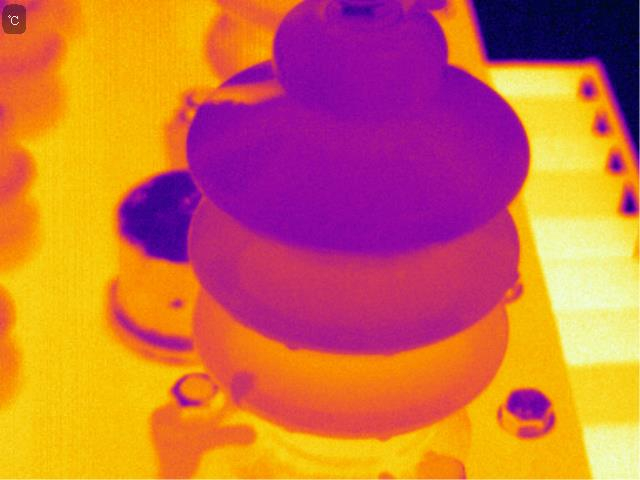Oil: (201, 69, 290, 112), (227, 367, 263, 413), (369, 423, 401, 450), (277, 334, 306, 358), (386, 335, 404, 367)
